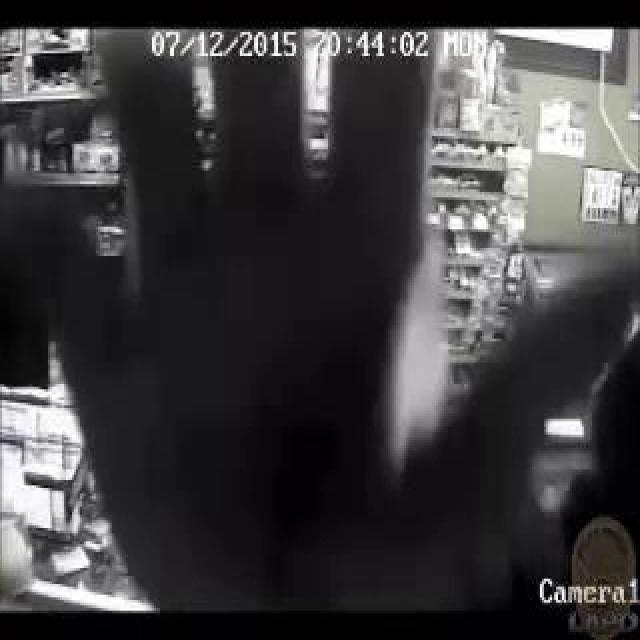robbery: (78, 55, 561, 565)
